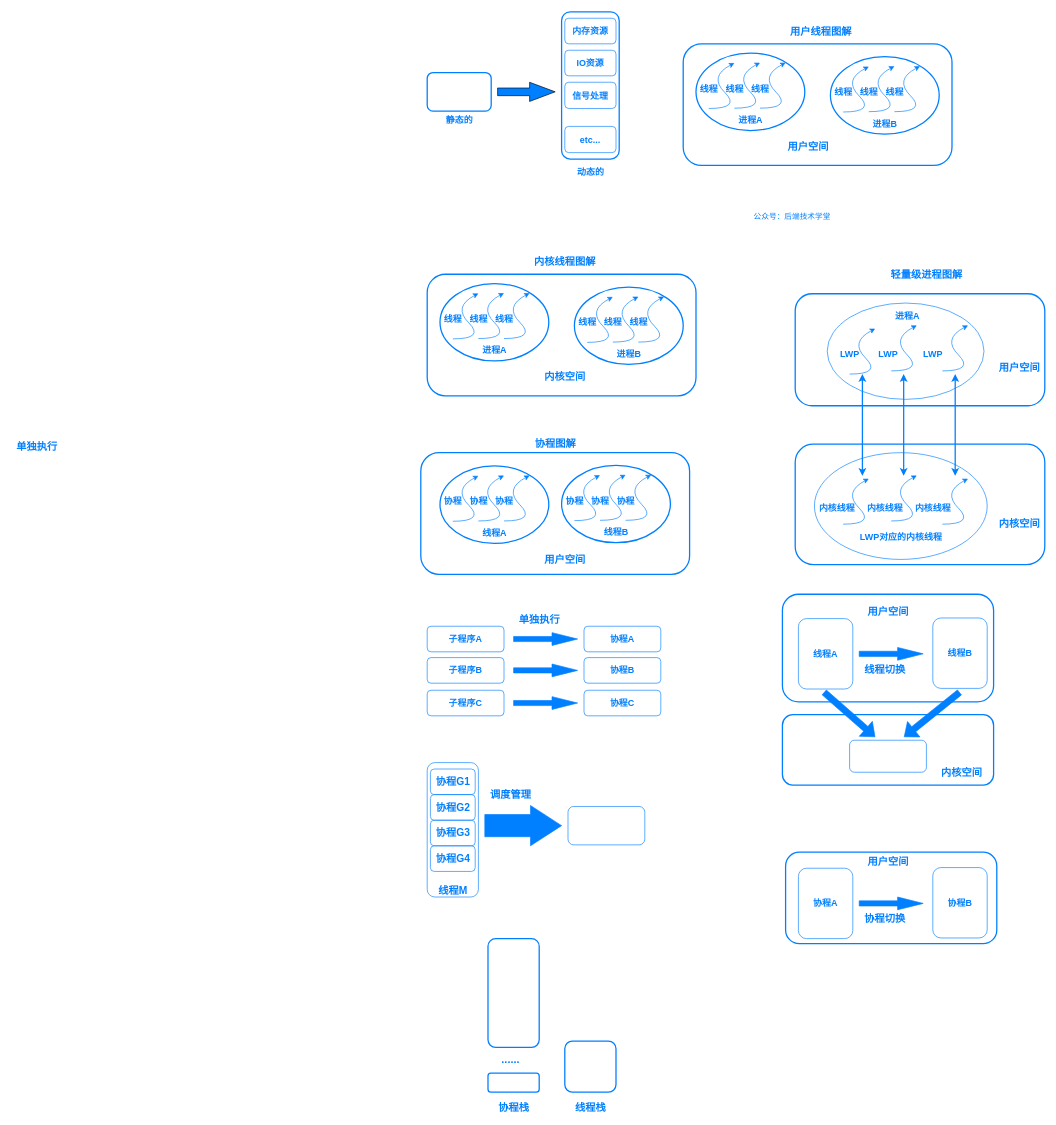
The diagram is 1056 pixels wide and 1125 high, and some of its shapes have lost their labels. The shapes that lost their labels are listed below. From the top down, each one's box as (x1, y1, x2, y2) in pixels, then its label:
(426, 72, 492, 111): 程序
(561, 11, 620, 159): 进程
(849, 740, 926, 772): 线程调度
(567, 806, 645, 845): 调度器P
(487, 938, 540, 1048): 最大1G
(487, 1072, 540, 1093): 最小2KB
(564, 1040, 616, 1093): 固定2MB
